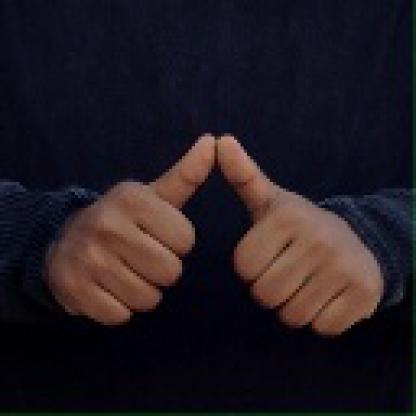A: (51, 131, 382, 337)
